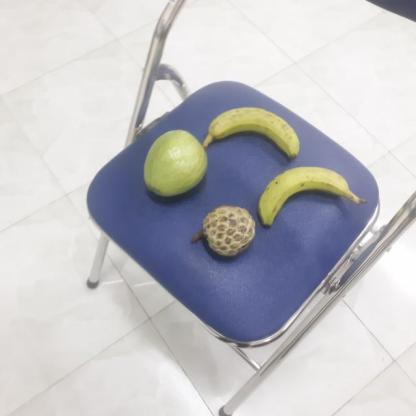annona: (194, 205, 256, 257)
banana: (253, 167, 350, 226), (202, 110, 298, 164)
